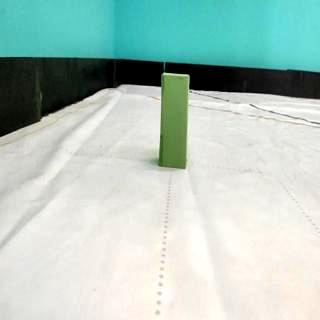greenbox: (160, 70, 190, 170)
